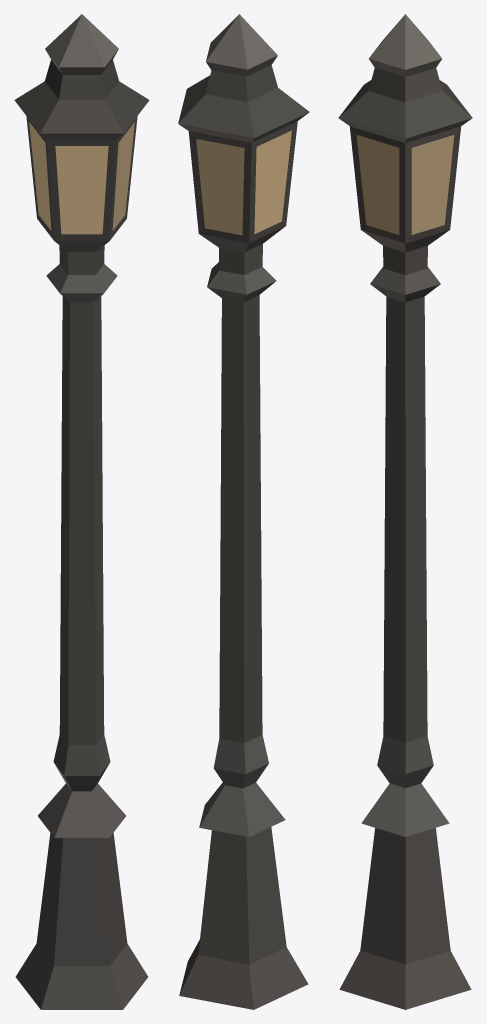
The model's file is StreetLamp-Lit_A.fbx.
3 views of the same model, side by side, from view 1: azimuth 90°, elevation 25°; view 2: azimuth 210°, elevation 25°; view 3: azimuth 270°, elevation 25° (orthographic).
Visible parts, largest first — view 1: StreetLamp-Lit_A; view 2: StreetLamp-Lit_A; view 3: StreetLamp-Lit_A.
Boxes of the visible parts, x1=… form: StreetLamp-Lit_A: x1=14, y1=14, x2=149, y2=1009; StreetLamp-Lit_A: x1=178, y1=14, x2=309, y2=1009; StreetLamp-Lit_A: x1=338, y1=14, x2=472, y2=1009.
Bounding box in the file's own units: 38.14 × 318 × 40.1.
